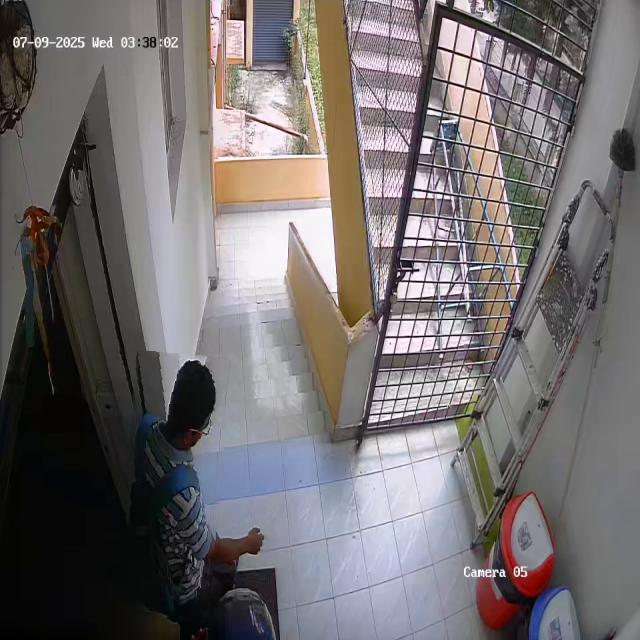person: (120, 352, 225, 616)
